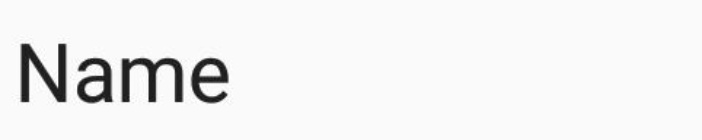TextView: (1, 1, 701, 139)
